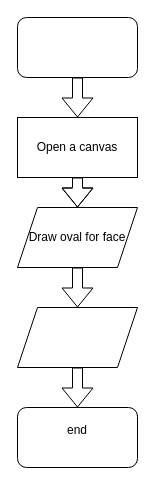
Some shapes in this 155 by 485 pixel diagram are drawn without their labels. The centre of each missing label's shape, as x and y in pixels:
"Draw 3 guideline for nose" belongs at (x=77, y=337).
"start" belongs at (x=77, y=47).
